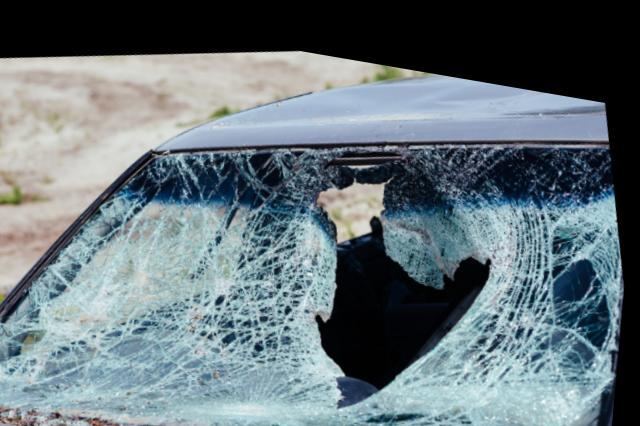dent: (215, 61, 606, 119)
glass shatter: (0, 121, 627, 426)
